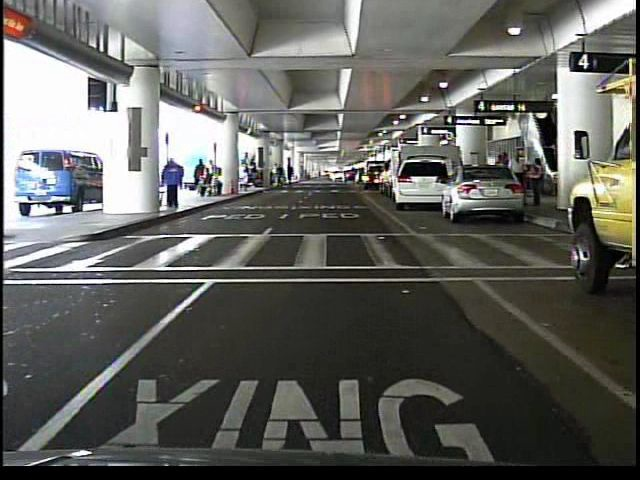person: (160, 153, 187, 209)
